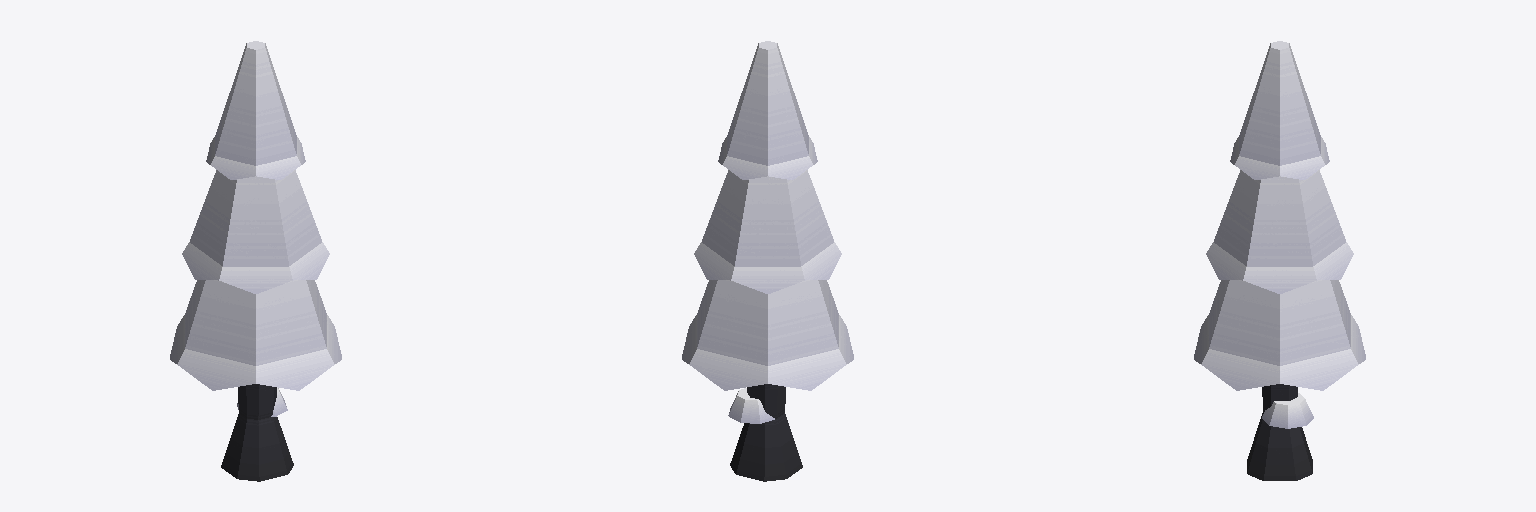
3 renders of one model, left to right at view 1: azimuth 30°, elevation 25°; view 2: azimuth 150°, elevation 25°; view 3: azimuth 270°, elevation 25°, orthographic.
Visible parts, largest first — view 1: tree.003; view 2: tree.003; view 3: tree.003.
Part boxes in pixels (bbox=[...]): tree.003: bbox=[170, 41, 341, 481]; tree.003: bbox=[682, 41, 853, 481]; tree.003: bbox=[1194, 41, 1365, 480].
Size of the model in its own units: 1.36 by 3.47 by 1.3.
Materials: 1 (1 with a texture image).